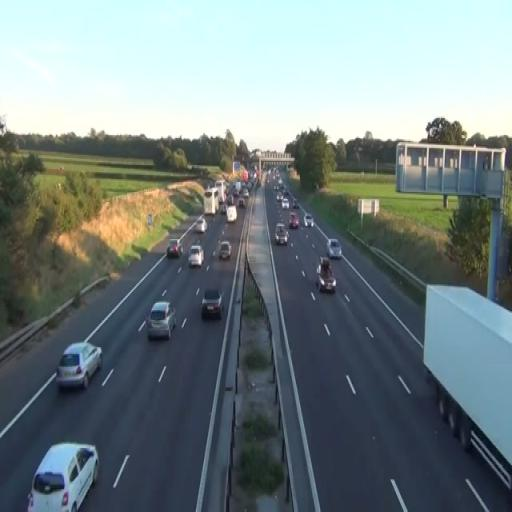Car: (26, 442, 100, 511), (56, 340, 102, 390), (147, 300, 176, 340), (201, 286, 224, 320), (316, 258, 336, 294), (188, 244, 204, 268), (166, 238, 184, 258), (326, 238, 342, 260), (275, 222, 288, 246), (218, 241, 232, 261), (289, 211, 300, 230)
Truck: (422, 283, 512, 494)
